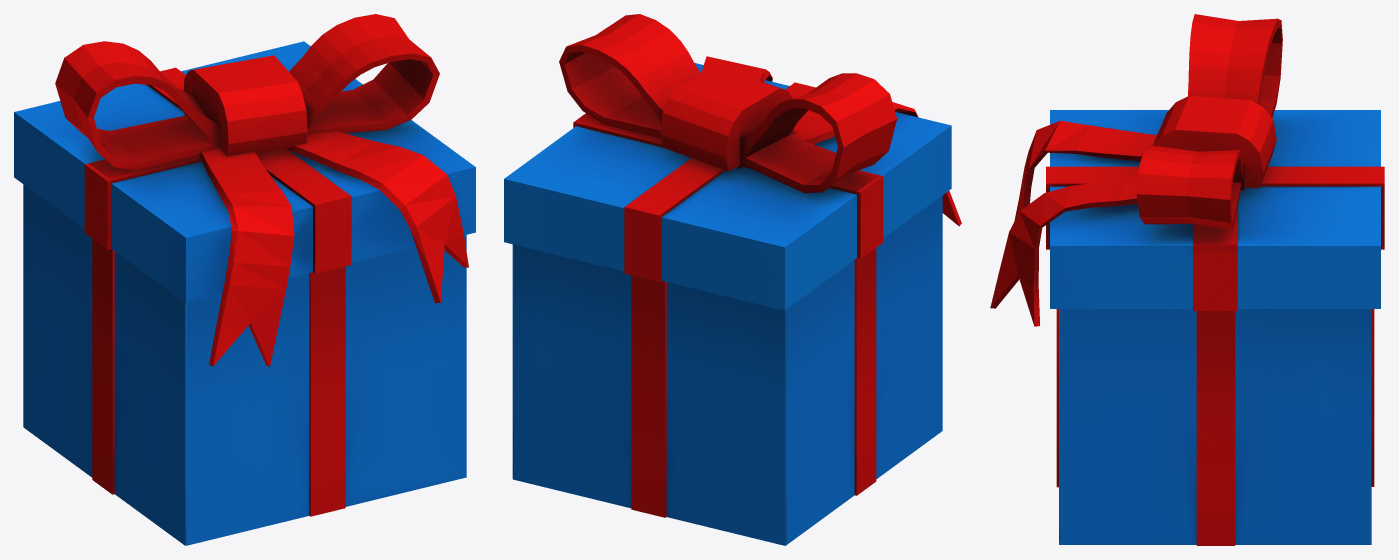
The model's file is giftbox.glb.
3 views of the same model, side by side, from view 1: azimuth 30°, elevation 25°; view 2: azimuth 150°, elevation 25°; view 3: azimuth 270°, elevation 25° (orthographic). The views are drawn at different scales.
Size of the model in its own units: 11.81 by 14.11 by 12.6.
Materials: 1 (1 with a texture image).
